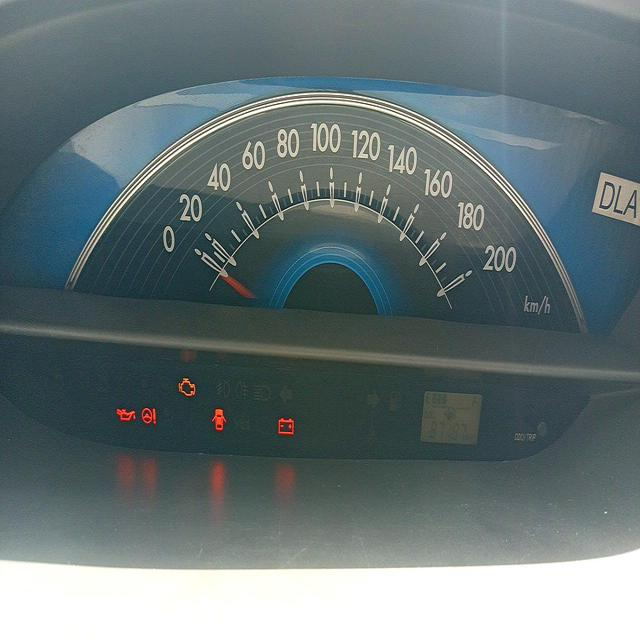odometer: (428, 413, 469, 444)
